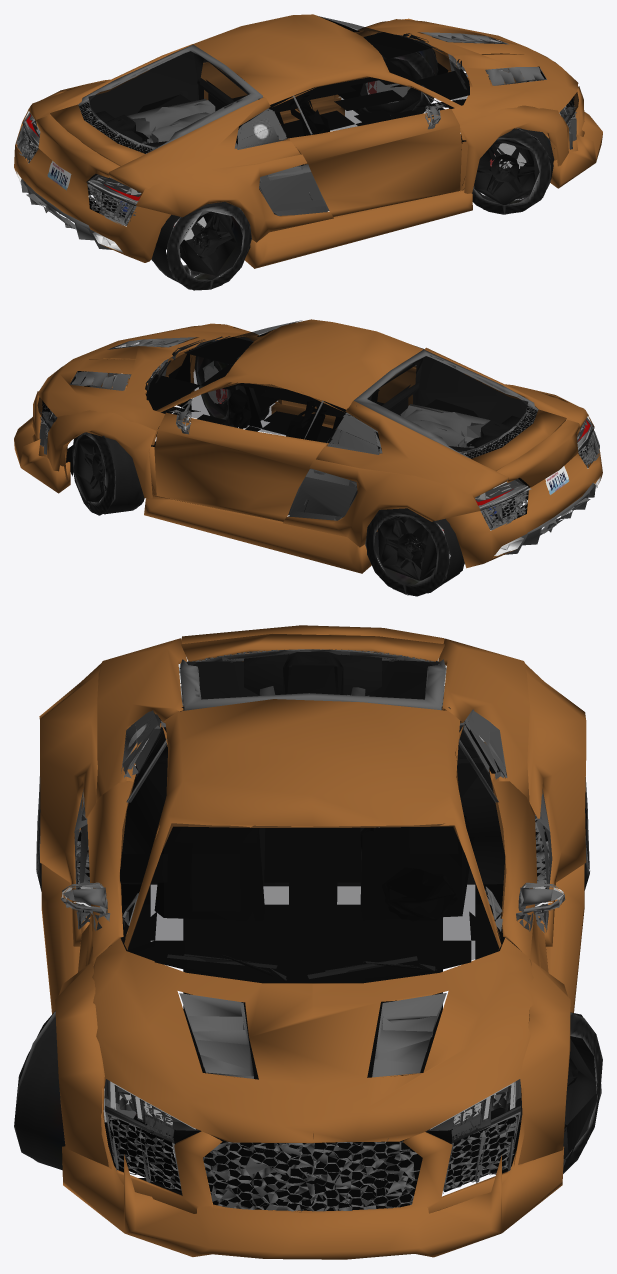
Rendered from veh-audi-r8.glb.
3 views of the same model, one above another, from view 1: azimuth 30°, elevation 25°; view 2: azimuth 150°, elevation 25°; view 3: azimuth 270°, elevation 25° (orthographic). The views are drawn at different scales.
Parts seen in each view (by area): view 1: p0; view 2: p0; view 3: p0.
Boxes of the visible parts, bbox=[...] form: p0: bbox=[14, 14, 602, 290]; p0: bbox=[14, 319, 602, 596]; p0: bbox=[14, 625, 602, 1259].
Size of the model in its own units: 62.6 by 17.64 by 32.63.
Materials: 15 (5 with a texture image).
